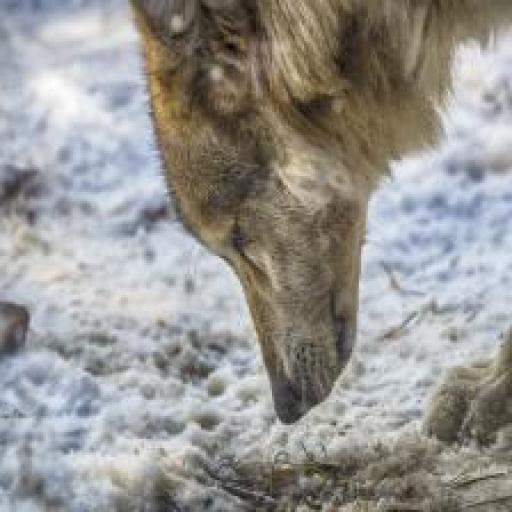wolf: (123, 0, 511, 427)
